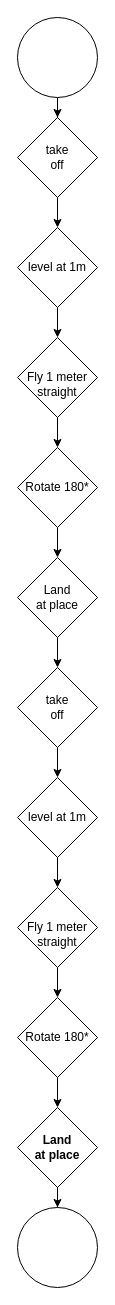
Image size: 115x1305. Some labels were removed from this diagram. The box of each missing label's shape, as (x1, y1, x2, y2) in pixels:
End: (16, 1206, 98, 1288)
start: (16, 16, 98, 98)
